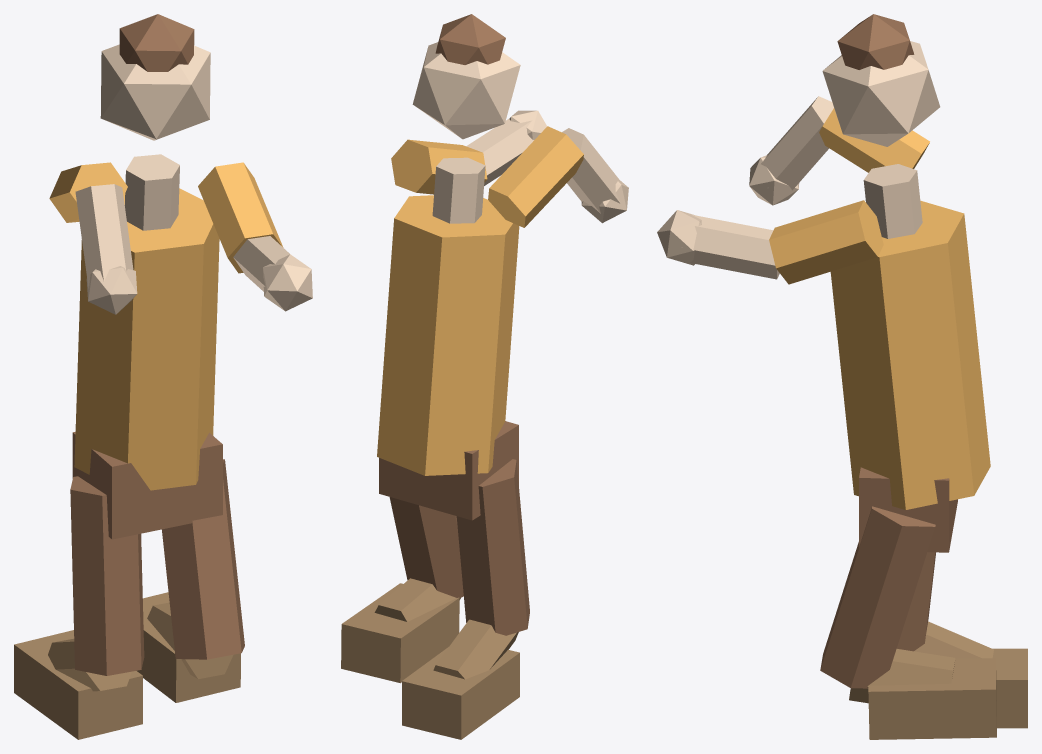
Rendered from pose_attack_1_21.glb.
The picture shows the model from 3 angles, left to right: view 1: azimuth 30°, elevation 25°; view 2: azimuth 150°, elevation 25°; view 3: azimuth 270°, elevation 25°; orthographic projection. The views are drawn at different scales.
Parts seen in each view (by area): view 1: pose; view 2: pose; view 3: pose.
Boxes of the visible parts, box(x1,y1,x2,y2) form: pose: box(14, 14, 312, 739); pose: box(341, 14, 628, 739); pose: box(657, 14, 1027, 739).
Bounding box in the file's own units: 0.4577 × 1.49 × 0.6985.
